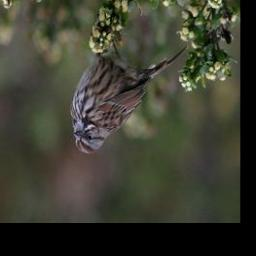Sparrow: (66, 29, 189, 155)
